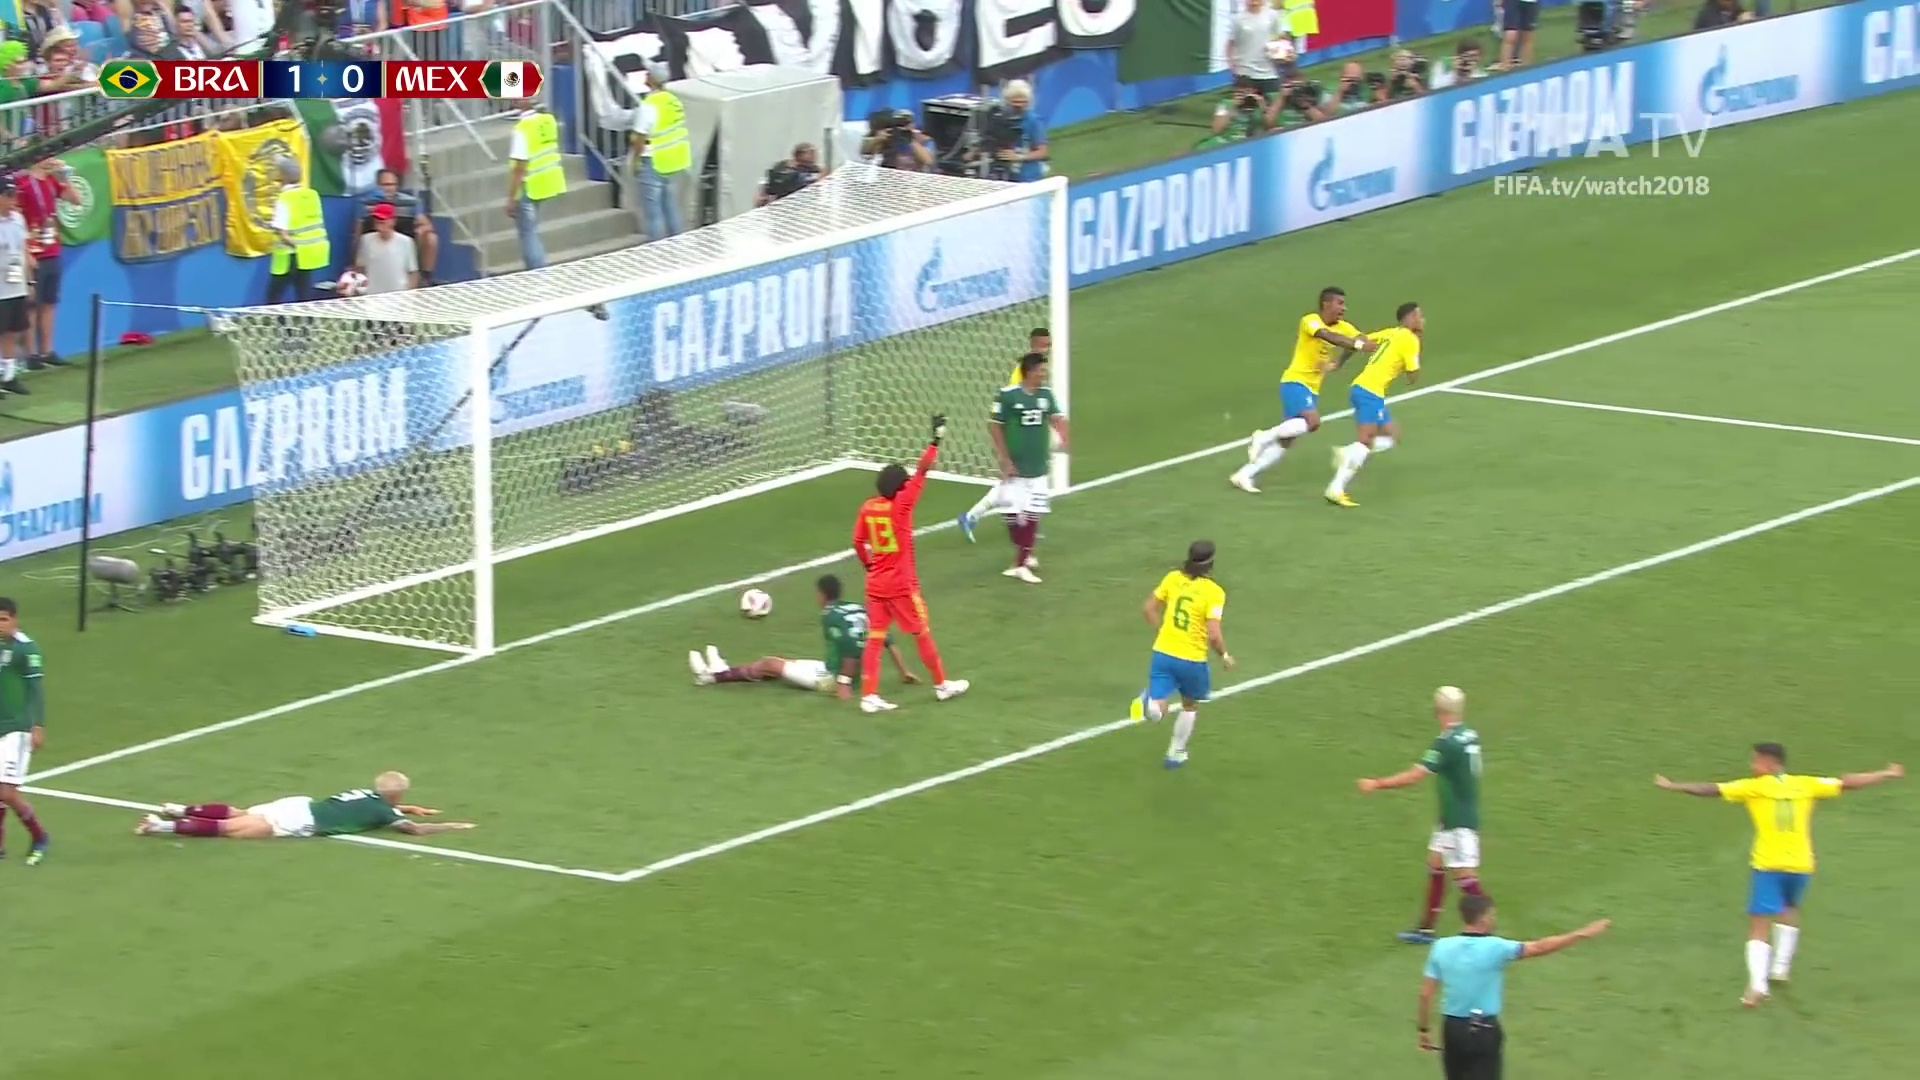ball: (741, 589, 769, 615)
person: (1661, 743, 1904, 1010), (860, 414, 965, 702), (1363, 686, 1483, 932), (681, 578, 922, 697), (137, 770, 476, 840), (1134, 536, 1227, 767), (1237, 287, 1343, 482), (993, 359, 1069, 594), (967, 327, 1048, 542), (1335, 303, 1416, 504), (1, 597, 42, 854)
